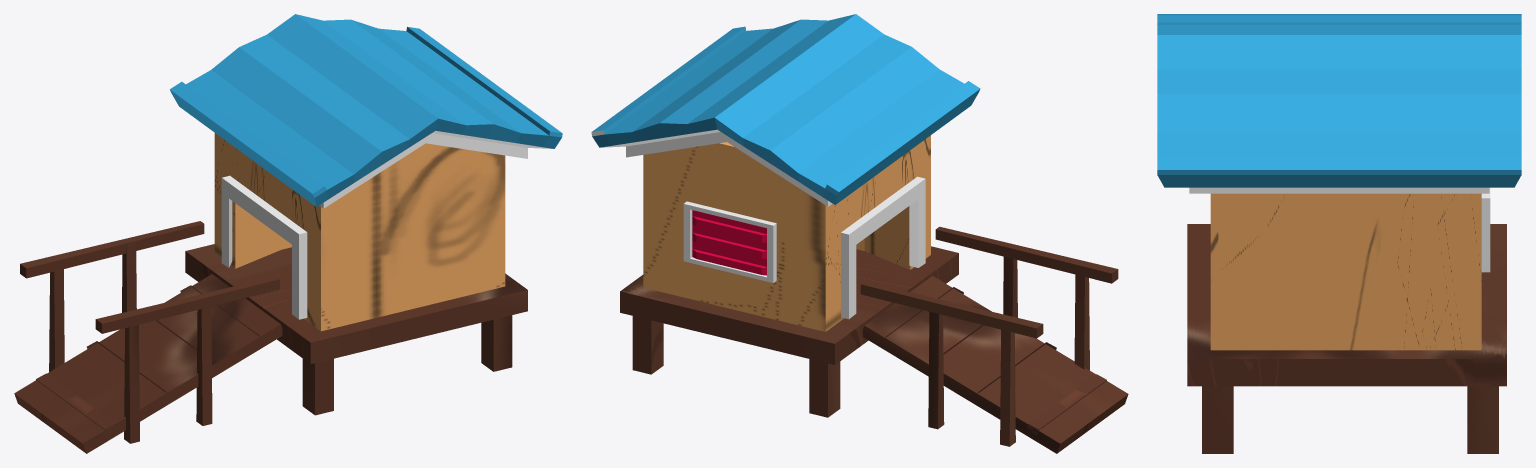
Rendered from farm.fbx.
The picture shows the model from 3 angles, left to right: view 1: azimuth 30°, elevation 25°; view 2: azimuth 150°, elevation 25°; view 3: azimuth 270°, elevation 25°; orthographic projection. The views are drawn at different scales.
Visible parts, largest first — view 1: Cube.017; view 2: Cube.017; view 3: Cube.017.
Boxes of the visible parts, box(x1,y1,x2,y2) form: Cube.017: box(14, 14, 562, 453); Cube.017: box(591, 14, 1128, 453); Cube.017: box(1157, 14, 1521, 453).
Bounding box in the file's own units: 405 × 254 × 228.
